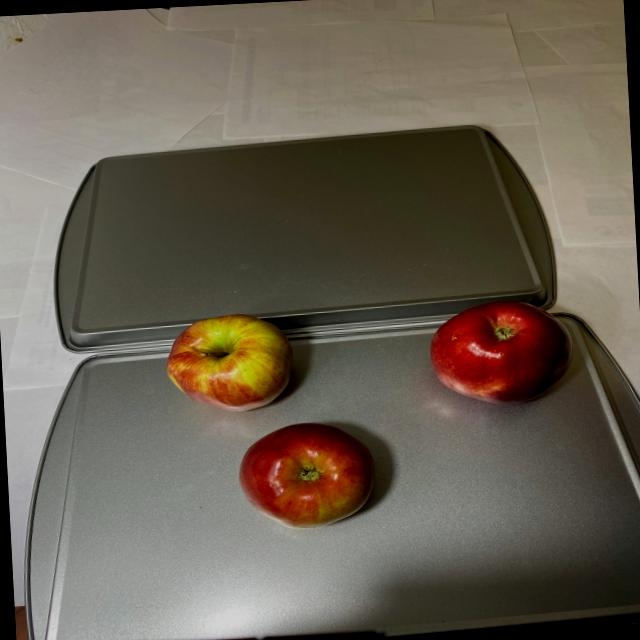apple: (160, 306, 380, 536), (421, 298, 578, 409)
